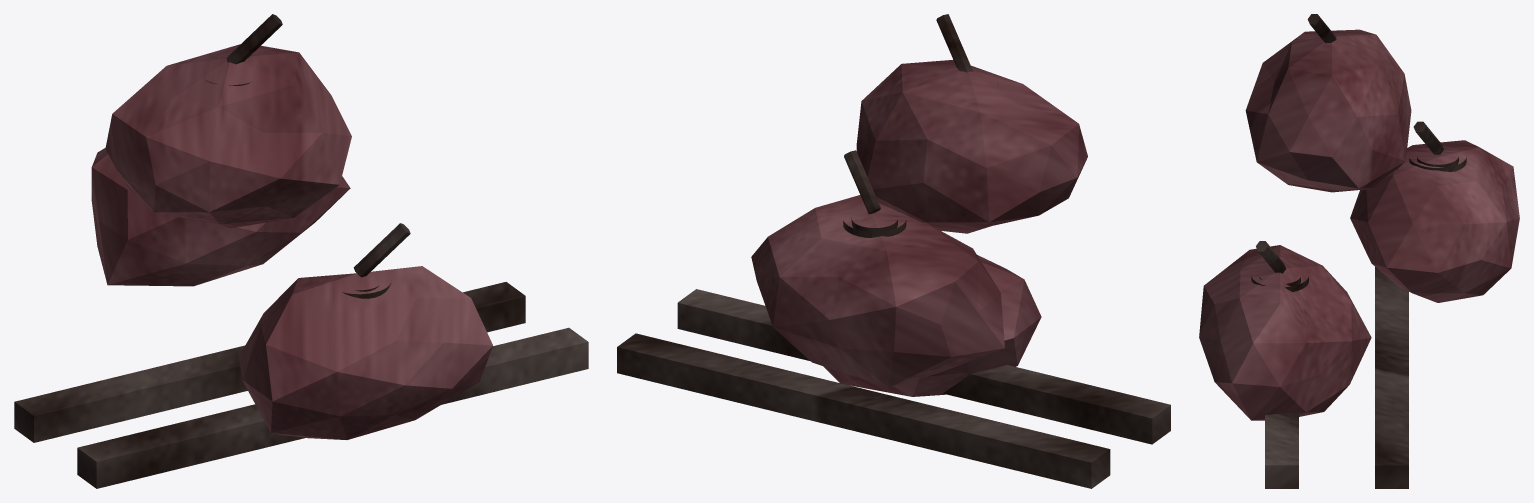
File: 0815_sack_stack_15.glb
The picture shows the model from 3 angles, left to right: view 1: azimuth 30°, elevation 25°; view 2: azimuth 150°, elevation 25°; view 3: azimuth 270°, elevation 25°; orthographic projection. The views are drawn at different scales.
Visible parts, largest first — view 1: cloth, wood_dark; view 2: cloth, wood_dark; view 3: cloth, wood_dark.
Part boxes in pixels (x1,y1,x2,y2): cloth: (91, 44, 492, 439); wood_dark: (14, 14, 588, 488); cloth: (751, 60, 1087, 396); wood_dark: (617, 14, 1170, 488); cloth: (1199, 29, 1519, 420); wood_dark: (1251, 14, 1466, 488).
Size of the model in its own units: 1.9 by 1.51 by 1.23.
Materials: 2 (2 with a texture image).
